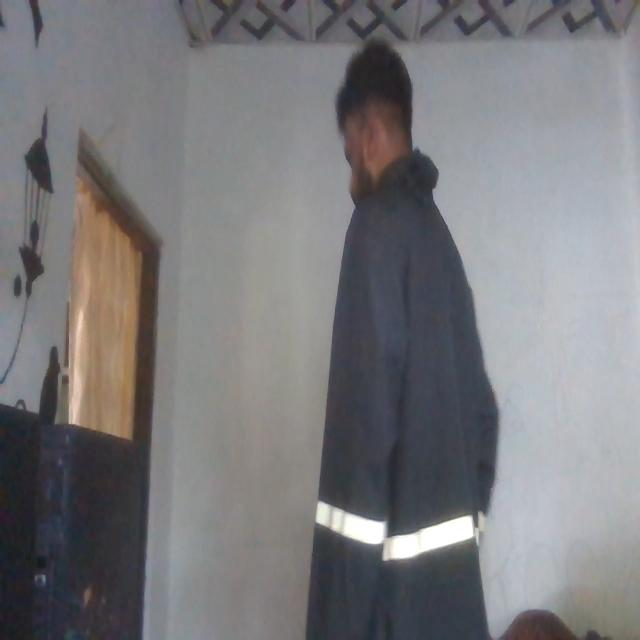Jacket_Wearer: (304, 164, 498, 608)
Person: (293, 36, 507, 640)
